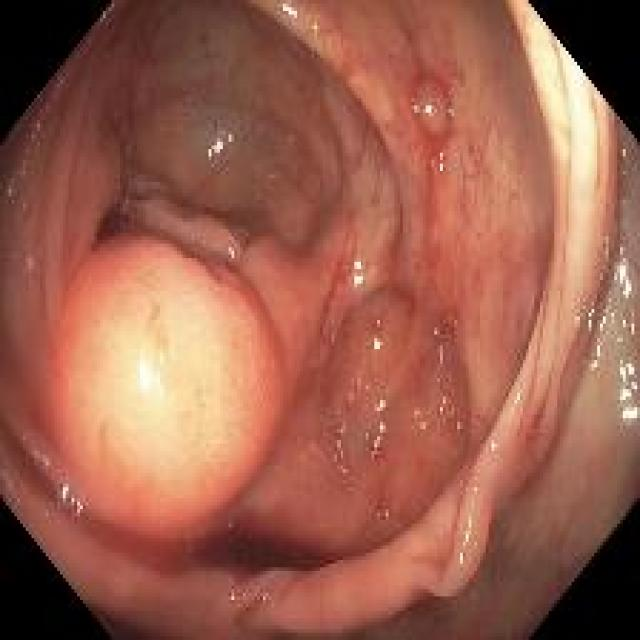Polyps: (0, 0, 640, 640), (51, 237, 284, 541), (412, 76, 450, 136)
